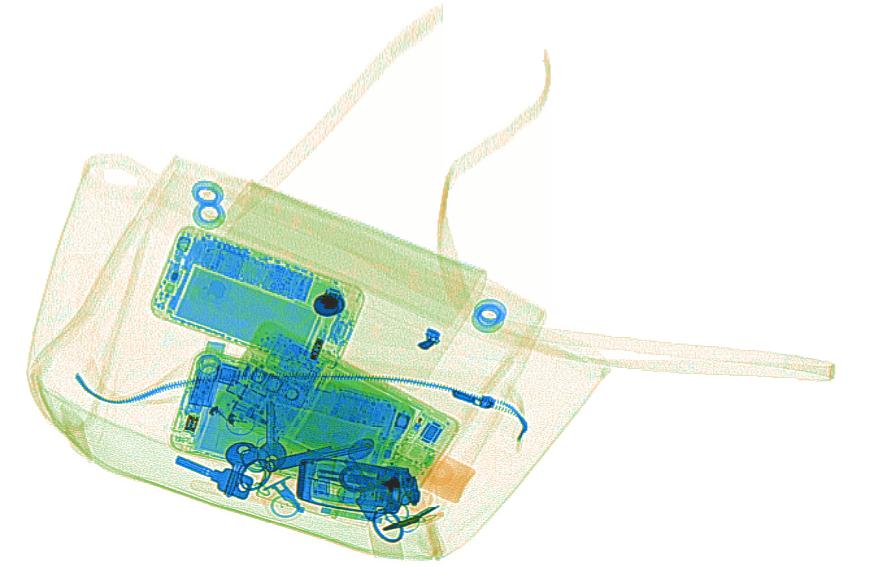USBFlashDisk: (186, 337, 228, 411)
